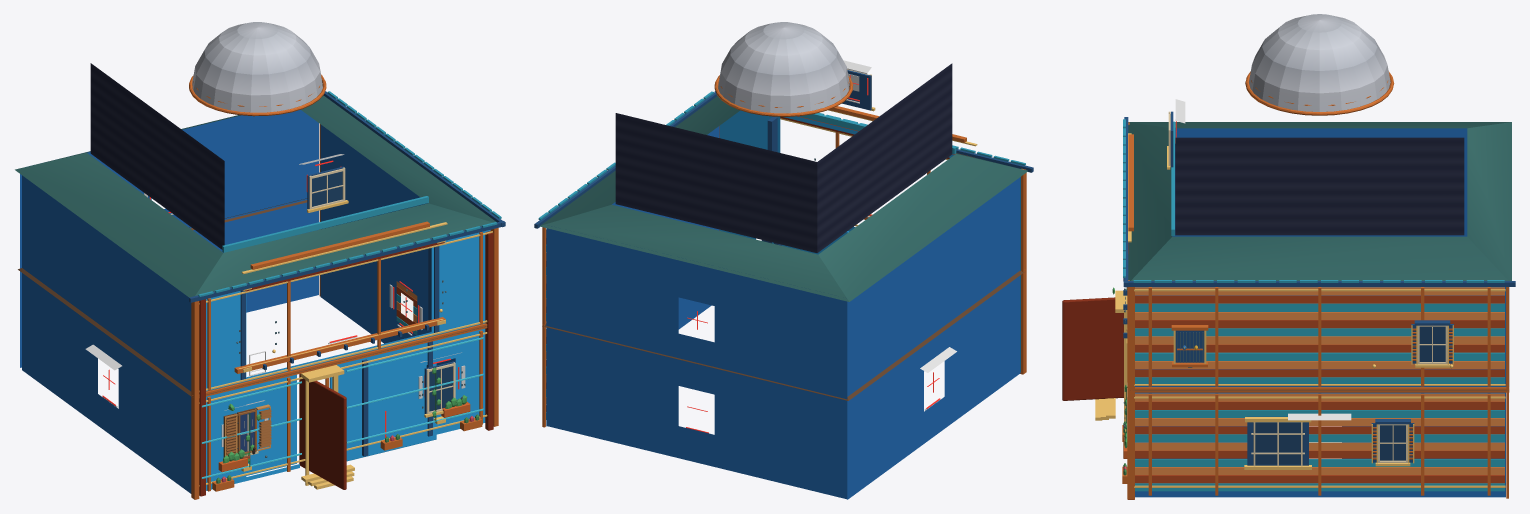
The model's file is exterior-home-CTIf6HU-.glb.
The picture shows the model from 3 angles, left to right: view 1: azimuth 30°, elevation 25°; view 2: azimuth 150°, elevation 25°; view 3: azimuth 270°, elevation 25°; orthographic projection. The views are drawn at different scales.
Parts seen in each view (by area): view 1: WallLeft, RoofMain, WallBack, WallFront, ObsLeft, WallRight, ObsDome, EXT_GroundFacade_Right, EXT_EntryDoorLeaf, EXT_GroundFacade_Left, BeltCourse, CUTAWAY_CornerSoft_0 (+19 smaller); view 2: WallBack, WallLeft, RoofMain, ObsBack, ObsLeft, ObsDome, WallFront, BeltCourse, CUTAWAY_CornerSoft_0, WallRight, EXT_Corner_9.49_9.49, EXT_Eave_Right (+2 smaller); view 3: ObsRight, RoofMain, ObsDome, EXT_EntryDoorLeaf, WallRight, WallLeft, EXT_Right_Lower_Board_1, EXT_Right_Lower_Board_10, EXT_Right_Upper_Board_1, EXT_Right_Upper_Board_9, EXT_Right_Upper_Board_10, EXT_Right_Upper_Board_8 (+35 smaller).
Boxes of the visible parts, box(x1,y1,x2,y2) form: WallLeft: box(22, 175, 191, 493); RoofMain: box(15, 95, 495, 297); WallBack: box(20, 109, 318, 367); WallFront: box(206, 230, 490, 490); ObsLeft: box(90, 63, 224, 249); WallRight: box(320, 124, 455, 365); ObsDome: box(192, 22, 322, 112); EXT_GroundFacade_Right: box(329, 343, 436, 461); EXT_EntryDoorLeaf: box(299, 373, 346, 489); EXT_GroundFacade_Left: box(228, 374, 296, 475); BeltCourse: box(18, 198, 487, 396); CUTAWAY_CornerSoft_0: box(191, 301, 199, 499); WallBack: box(546, 226, 847, 499); WallLeft: box(847, 177, 1020, 499); RoofMain: box(539, 96, 1027, 301); ObsBack: box(615, 113, 817, 252); ObsLeft: box(817, 63, 952, 252); ObsDome: box(718, 22, 849, 113); WallFront: box(720, 110, 1020, 371); BeltCourse: box(542, 271, 1024, 400); CUTAWAY_CornerSoft_0: box(1020, 168, 1026, 374); WallRight: box(546, 126, 719, 426); EXT_Corner_9.49_9.49: box(542, 227, 545, 427); EXT_Eave_Right: box(534, 91, 717, 228); ObsRight: box(1175, 137, 1464, 235); RoofMain: box(1128, 122, 1511, 280); ObsDome: box(1249, 14, 1390, 111); EXT_EntryDoorLeaf: box(1062, 297, 1123, 400); WallRight: box(1135, 287, 1505, 497); WallLeft: box(1172, 128, 1467, 236); EXT_Right_Lower_Board_1: box(1135, 475, 1504, 483); EXT_Right_Lower_Board_10: box(1135, 401, 1504, 409); EXT_Right_Upper_Board_1: box(1135, 369, 1504, 377); EXT_Right_Upper_Board_9: box(1135, 303, 1504, 311); EXT_Right_Upper_Board_10: box(1135, 295, 1504, 303); EXT_Right_Upper_Board_8: box(1135, 312, 1504, 319).
Bounding box in the file's own units: 20.18 × 23.02 × 22.91.
